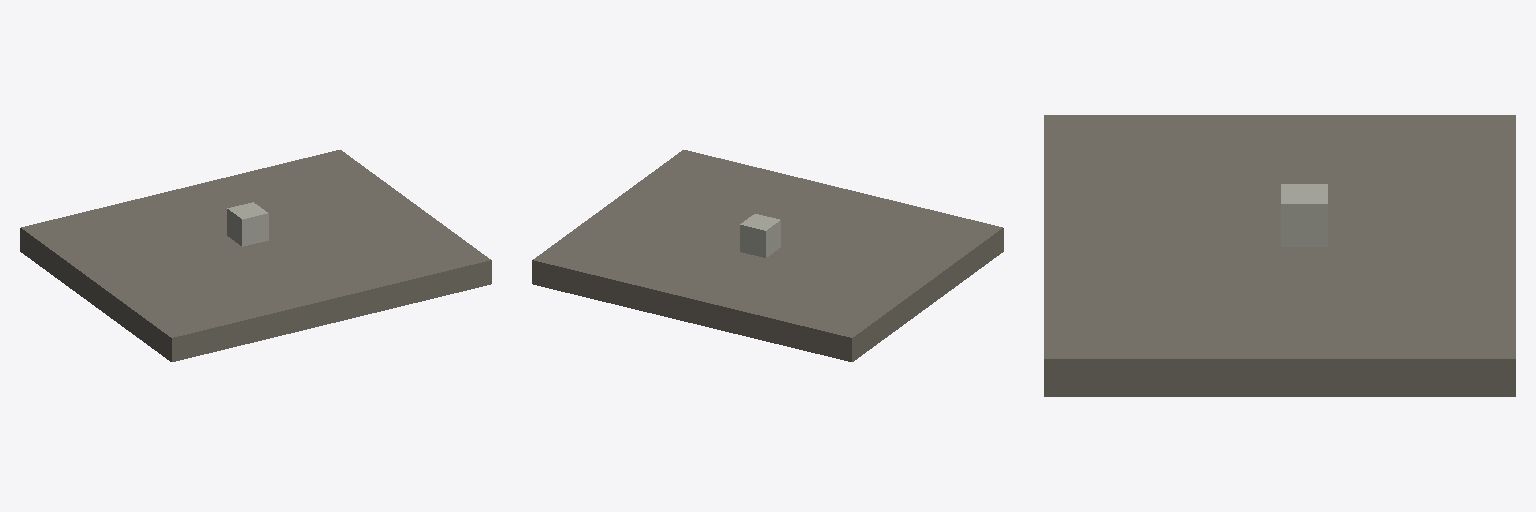
The robot description file, URDF, robot "parttoolgen_hammer_single_cube":
<?xml version="1.0"?>
<robot name="parttoolgen_hammer_single_cube">
  <link name="table_with_target_cube">
    <visual>
      <material name="wood">
        <color rgba="0.52 0.50 0.46 1.0"/>
      </material>
      <origin xyz="0 0 0"/>
      <geometry>
        <box size="0.55 0.45 0.04"/>
      </geometry>
    </visual>
    <collision>
      <origin xyz="0 0 0"/>
      <geometry>
        <box size="0.55 0.45 0.04"/>
      </geometry>
    </collision>

    <visual>
      <material name="target_cube">
        <color rgba="0.72 0.72 0.68 1.0"/>
      </material>
      <origin xyz="-0.0004764982278399055 0.023149924937709107 0.042499999999999996"/>
      <geometry>
        <box size="0.045 0.045 0.045"/>
      </geometry>
    </visual>
    <collision>
      <origin xyz="-0.0004764982278399055 0.023149924937709107 0.042499999999999996"/>
      <geometry>
        <box size="0.045 0.045 0.045"/>
      </geometry>
    </collision>

    <inertial>
      <mass value="500"/>
      <friction value="1.0"/>
      <inertia ixx="1000.0" ixy="0.0" ixz="0.0" iyy="1000.0" iyz="0.0" izz="1000.0"/>
    </inertial>
  </link>
</robot>

--- What the picture shows (computed from the rendered views, not written in the file) ---
3 views of the same robot in one strip: view 1: azimuth 30°, elevation 25°; view 2: azimuth 150°, elevation 25°; view 3: azimuth 270°, elevation 25° (orthographic).
Model parttoolgen_hammer_single_cube with 1 links and 0 joints (none), rooted at table_with_target_cube, posed every joint at zero.
Visible links, largest first — view 1: table_with_target_cube; view 2: table_with_target_cube; view 3: table_with_target_cube.
Link boxes in pixels (x1,y1,x2,y2): table_with_target_cube: (20,150,491,361); table_with_target_cube: (532,150,1003,361); table_with_target_cube: (1044,115,1515,396).
Bounding box of the posed robot: 0.55 × 0.45 × 0.085 m (x, y, z).
Geometry: primitives only (box / cylinder / sphere), no mesh files.
